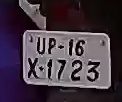1: (44, 56, 54, 79), (66, 36, 75, 58)
2: (70, 57, 85, 84)
3: (84, 57, 101, 84)
6: (75, 37, 85, 58)
7: (54, 55, 66, 81)
P: (47, 35, 57, 58)
U: (33, 35, 49, 58)
X: (25, 55, 39, 82)
